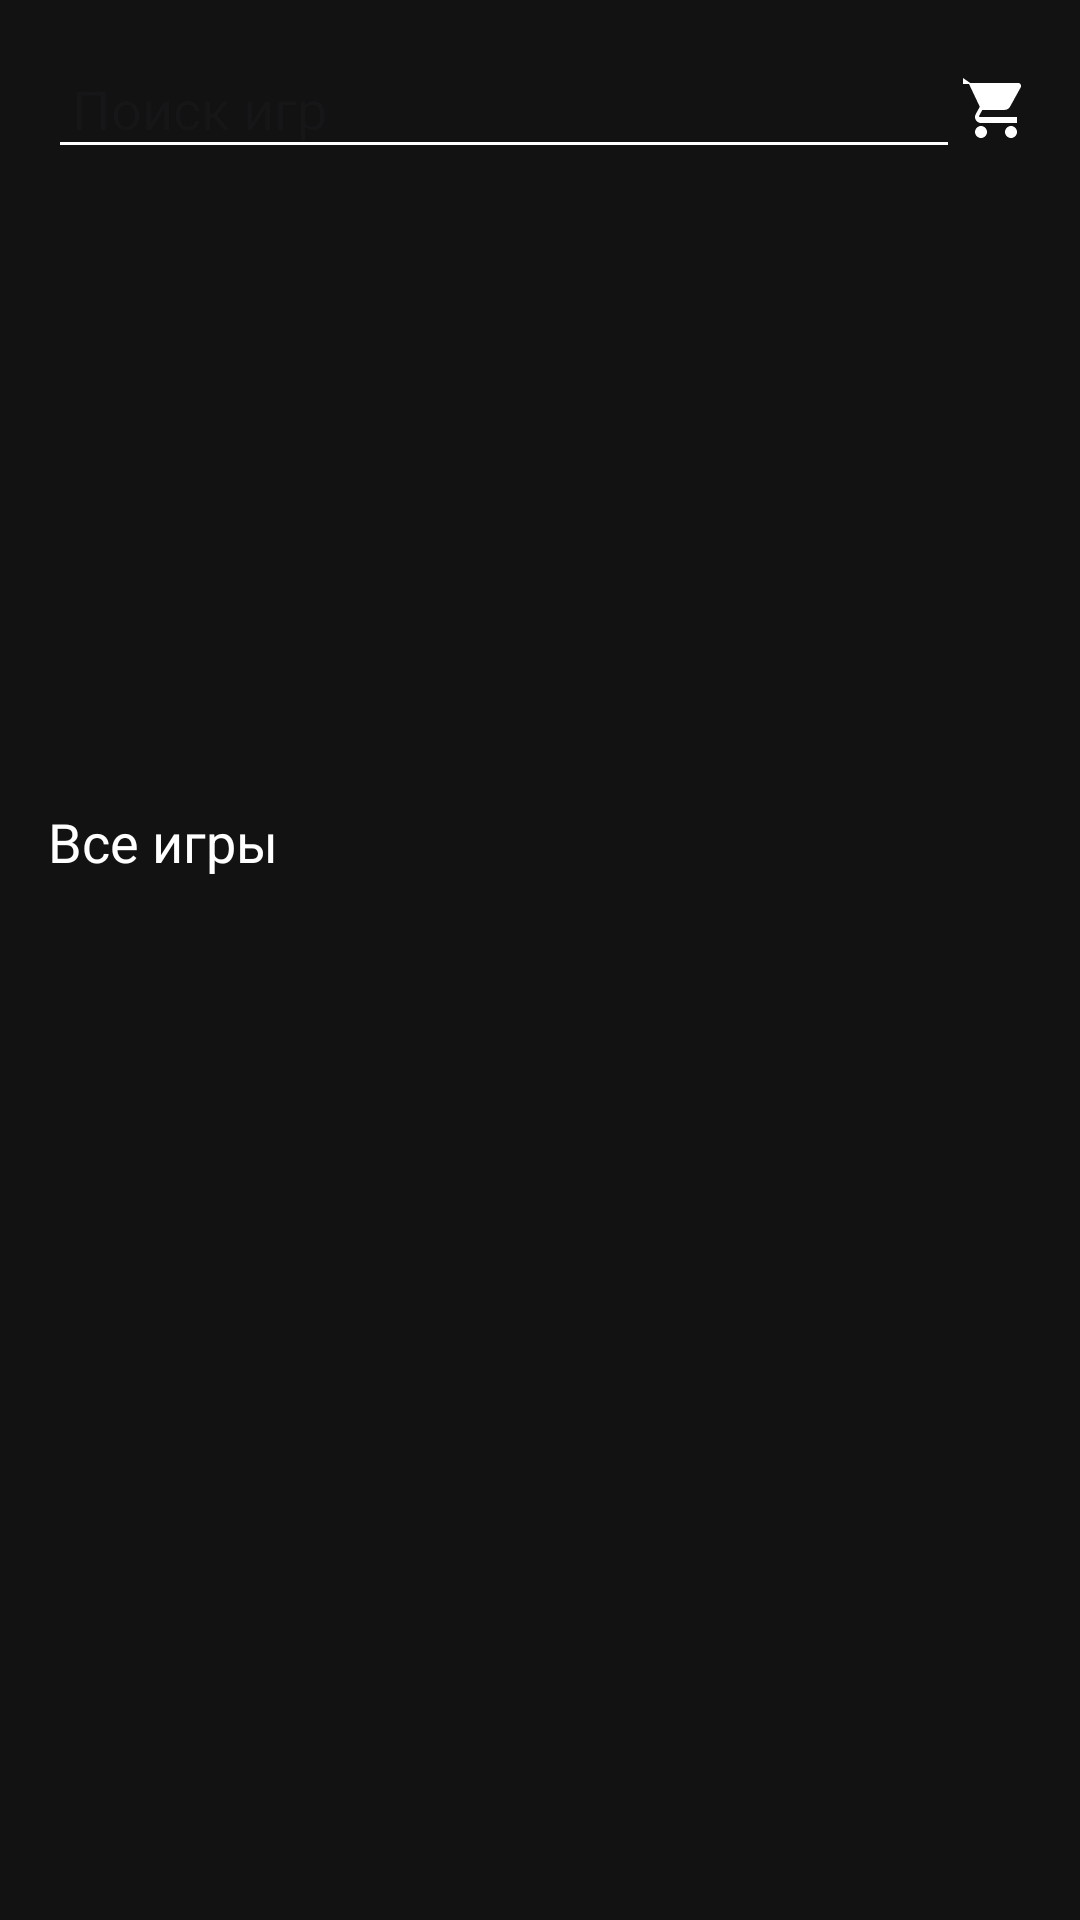

Locate icon controls on the screen. Image size 1080px×1920px, boxes as (x1, y1, x2, y2).
cart: (963, 78, 1021, 138)
